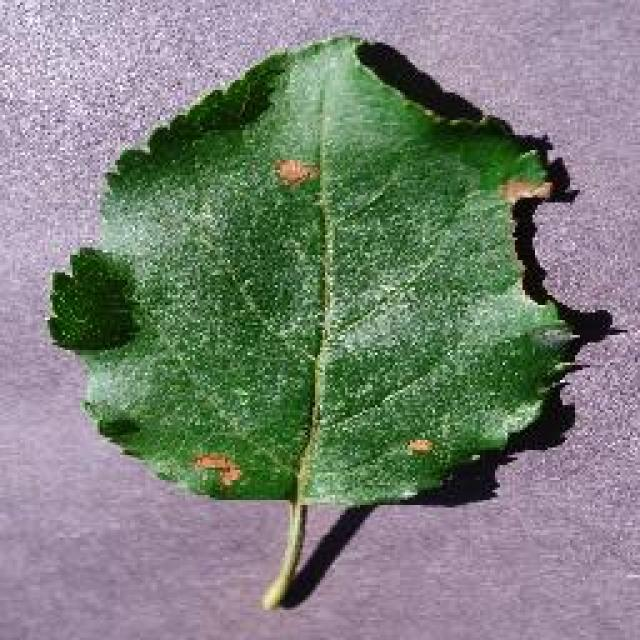black_rot: (376, 408, 455, 466), (478, 157, 558, 210), (260, 147, 326, 200), (186, 438, 251, 491)
